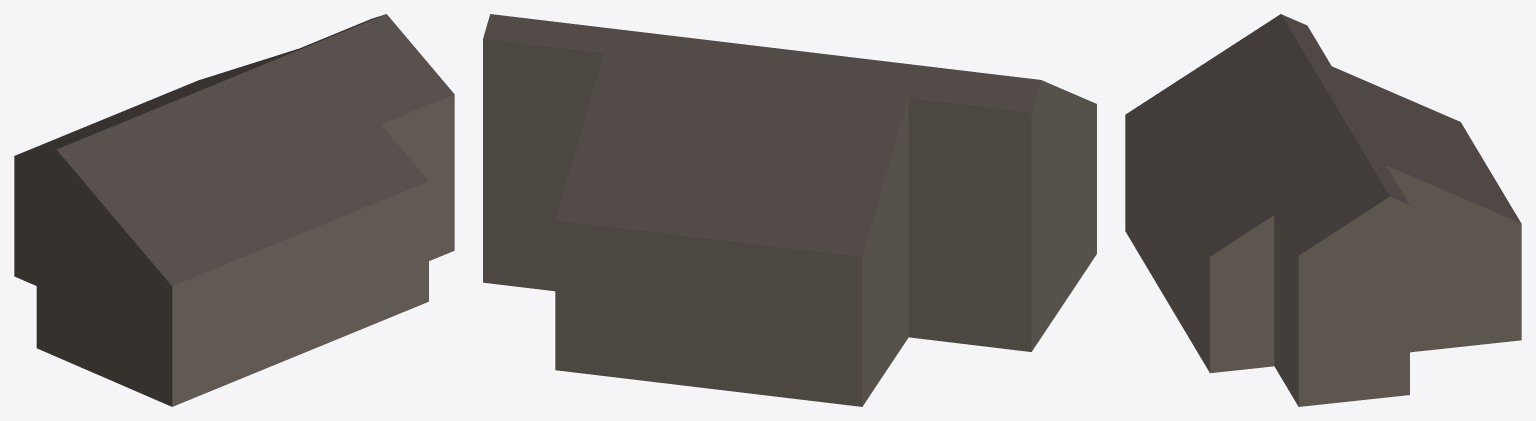
3 views of the same model, side by side, from view 1: azimuth 30°, elevation 25°; view 2: azimuth 150°, elevation 25°; view 3: azimuth 270°, elevation 25° (orthographic). The views are drawn at different scales.
Parts seen in each view (by area): view 1: HP-w1203858315; view 2: HP-w1203858315; view 3: HP-w1203858315.
Part boxes in pixels (bbox=[...]): HP-w1203858315: bbox=[14, 14, 454, 406]; HP-w1203858315: bbox=[483, 14, 1096, 406]; HP-w1203858315: bbox=[1125, 14, 1521, 406].
Size of the model in its own units: 21.55 by 10.32 by 18.48.
